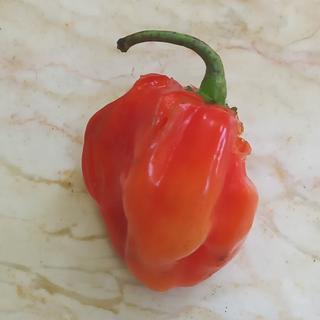Grade-A: (75, 65, 267, 292)
